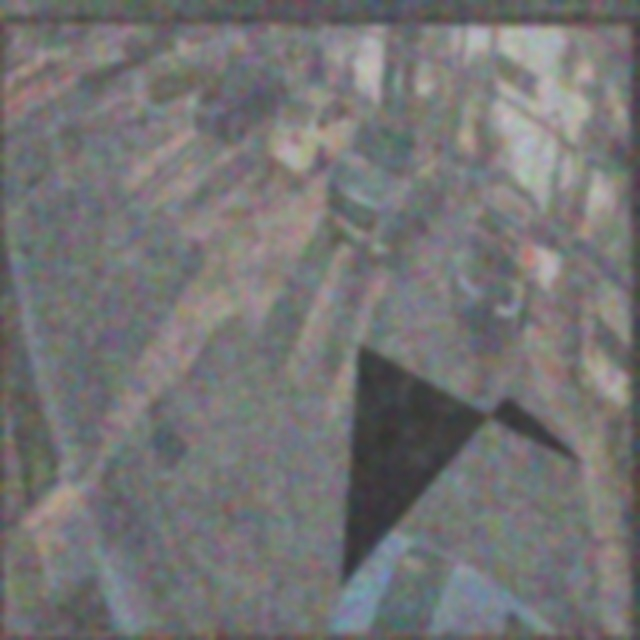Car: (326, 94, 450, 264), (452, 184, 562, 342), (193, 59, 288, 142), (268, 88, 366, 166)
